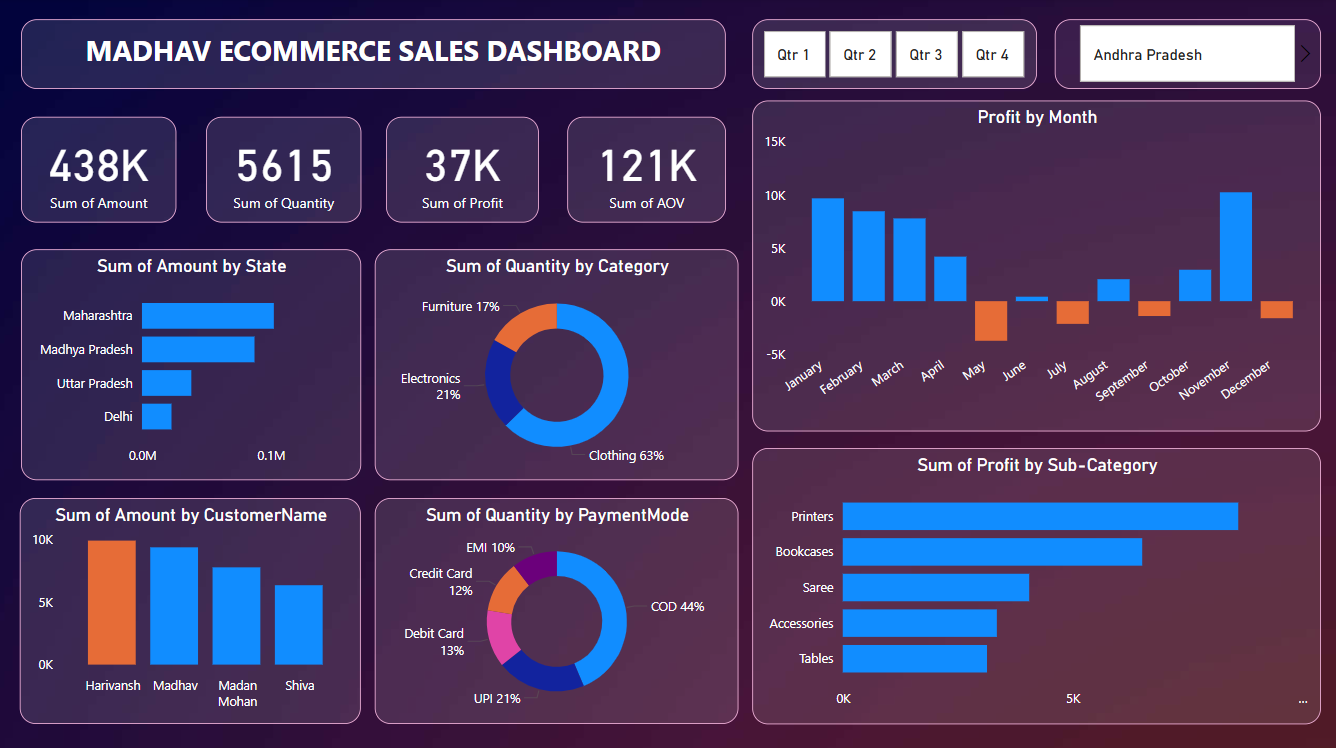

The page's visual inventory and layout, read from the dashboard file:
{"tool":"powerbi","page":{"name":"Page 1","canvas":[1280,720],"ordinal":0},"visuals":[{"type":"columnChart","title":"Profit by Month","fields":{"Category":["Orders.Order Date.Variation.Date Hierarchy.Month"],"Y":["Details.Profit"]},"box":[720.2,97.6,541.7,315.5],"z":0},{"type":"clusteredBarChart","fields":{"Category":["Details.Sub-Category"],"Y":["Details.Profit"]},"box":[720.2,428.6,541.7,263.1],"z":1000},{"type":"donutChart","fields":{"Category":["Details.Category"],"Y":["Details.Quantity"]},"box":[360.7,239.3,346.4,220.2],"z":2000},{"type":"donutChart","fields":{"Y":["Details.Quantity"],"Category":["Details.PaymentMode"]},"box":[360.7,476.2,346.4,215.5],"z":3000},{"type":"card","fields":{"Values":["Details.Amount"]},"box":[23.8,113.1,147.6,101.2],"z":4000},{"type":"card","fields":{"Values":["Details.Quantity"]},"box":[200,113.1,147.6,101.2],"z":5000},{"type":"card","fields":{"Values":["Details.Profit"]},"box":[371.4,113.1,145.2,101.2],"z":6000},{"type":"card","fields":{"Values":["Details.AOV"]},"box":[544.1,113.1,151.2,101.2],"z":7000},{"type":"clusteredBarChart","fields":{"Category":["Orders.State"],"Y":["Details.Amount"]},"box":[23.8,239.3,323.8,220.2],"z":8000},{"type":"columnChart","fields":{"Category":["Orders.CustomerName"],"Y":["Details.Amount"]},"box":[22.6,476.2,325,215.5],"z":9000},{"type":"textbox","box":[23.8,20.2,671.4,66.7],"z":10000},{"type":"advancedSlicerVisual","fields":{"Values":["Orders.Order Date.Variation.Date Hierarchy.Quarter"]},"box":[720.2,20.2,271.4,66.7],"z":11000},{"type":"advancedSlicerVisual","fields":{"Values":["Orders.State"]},"box":[1008.3,20.2,253.6,66.7],"z":12000}]}

Visuals, with their boxes in screenshot pixels (x1, y1, x2, y2), scaled from the page's 1280x720 canvas onto the 1336x748 screenshot:
"Profit by Month" columnChart: BBox(752, 101, 1317, 429)
clusteredBarChart - Details.Sub-Category x Details.Profit: BBox(752, 445, 1317, 719)
donutChart - Details.Category x Details.Quantity: BBox(376, 249, 738, 477)
donutChart - Details.Quantity x Details.PaymentMode: BBox(376, 495, 738, 719)
card - Details.Amount: BBox(25, 117, 179, 223)
card - Details.Quantity: BBox(209, 117, 363, 223)
card - Details.Profit: BBox(388, 117, 539, 223)
card - Details.AOV: BBox(568, 117, 726, 223)
clusteredBarChart - Orders.State x Details.Amount: BBox(25, 249, 363, 477)
columnChart - Orders.CustomerName x Details.Amount: BBox(24, 495, 363, 719)
textbox: BBox(25, 21, 726, 90)
advancedSlicerVisual - Orders.Order Date.Variation.Date Hierarchy.Quarter: BBox(752, 21, 1035, 90)
advancedSlicerVisual - Orders.State: BBox(1052, 21, 1317, 90)
